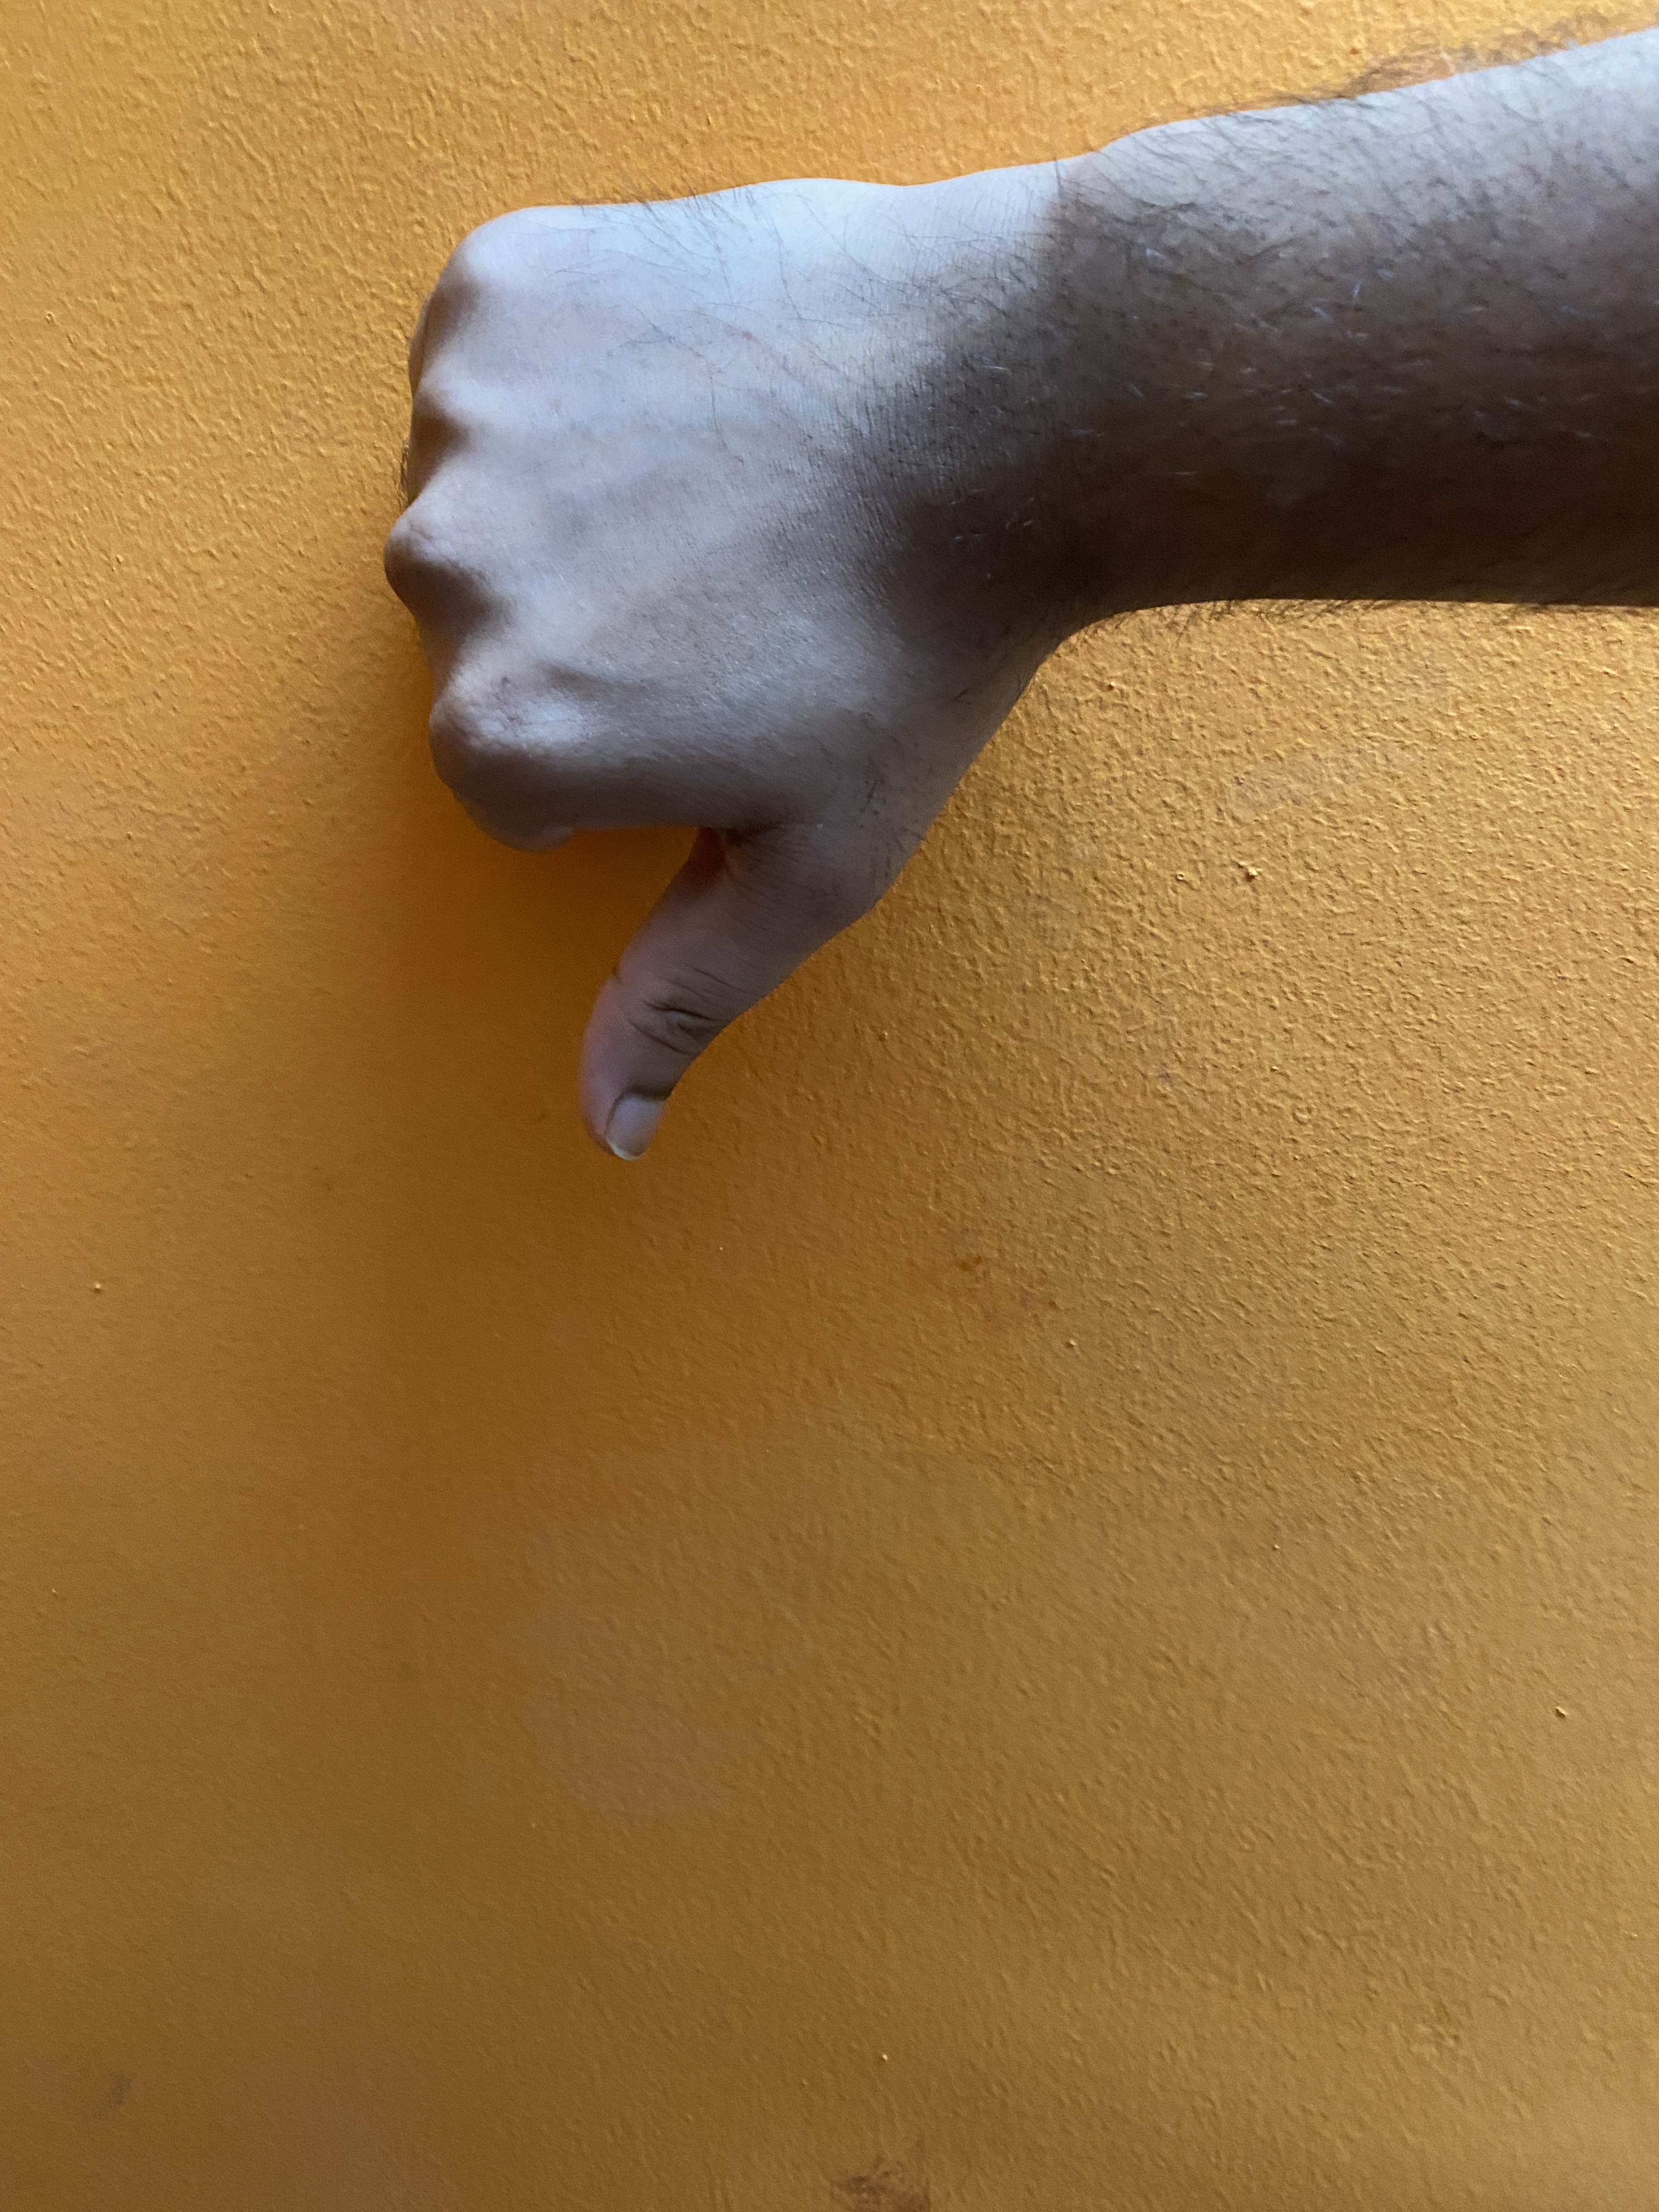down: (282, 10, 1659, 1200)
